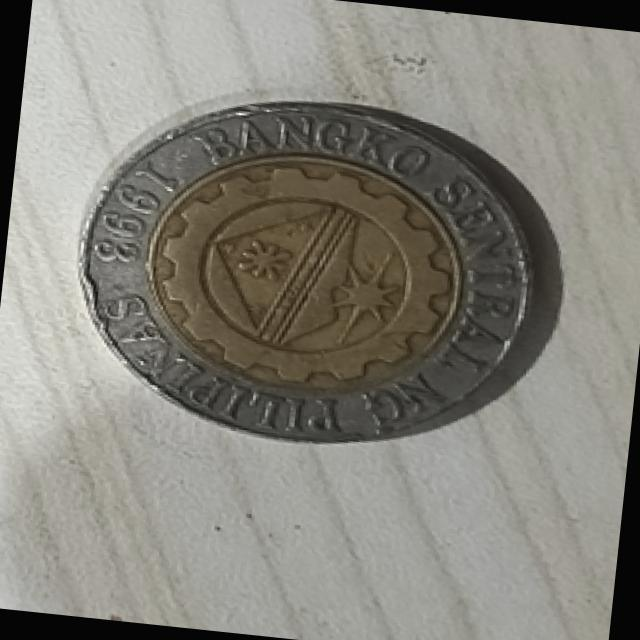1_peso: (80, 101, 531, 439)
